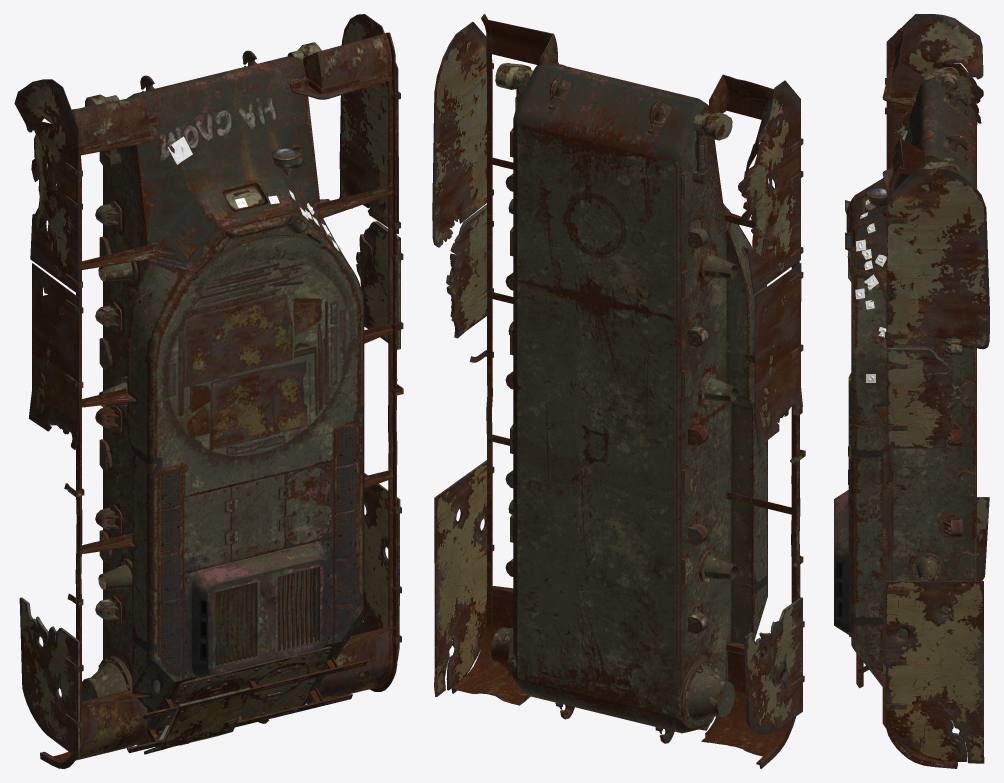
File: Hull_01.glb
3 renders of one model, left to right at view 1: azimuth 30°, elevation 25°; view 2: azimuth 150°, elevation 25°; view 3: azimuth 270°, elevation 25°, orthographic. The views are drawn at different scales.
Parts seen in each view (by area): view 1: set_0_group_0, set_0_group_1; view 2: set_0_group_0; view 3: set_0_group_0, set_0_group_1.
Boxes of the visible parts, x1,y1,x2,y2 form: set_0_group_0: (14, 14, 403, 768); set_0_group_1: (159, 136, 340, 739); set_0_group_0: (432, 14, 805, 768); set_0_group_0: (834, 14, 989, 768); set_0_group_1: (855, 130, 907, 382).
Size of the model in its own units: 3.13 by 6.13 by 1.39.
2 materials, 1 textured.
